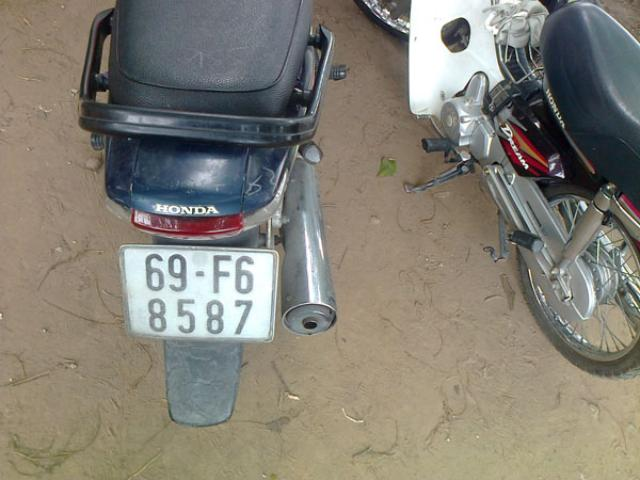plate: (130, 246, 270, 340)
